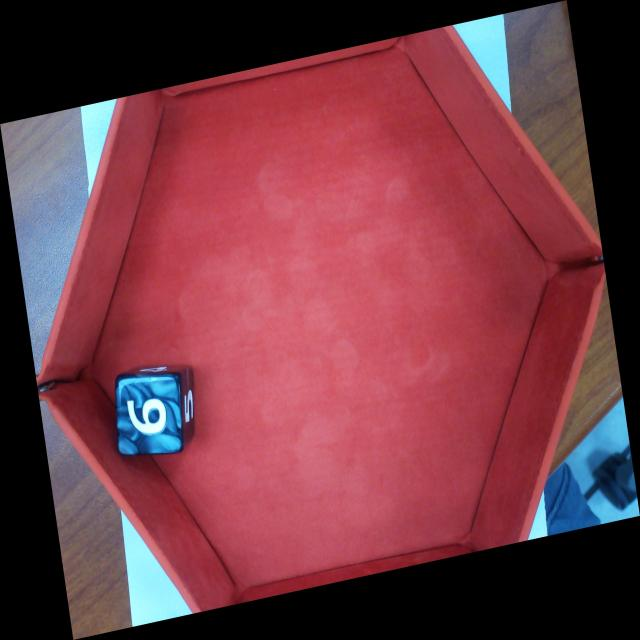dice: (113, 370, 184, 458)
